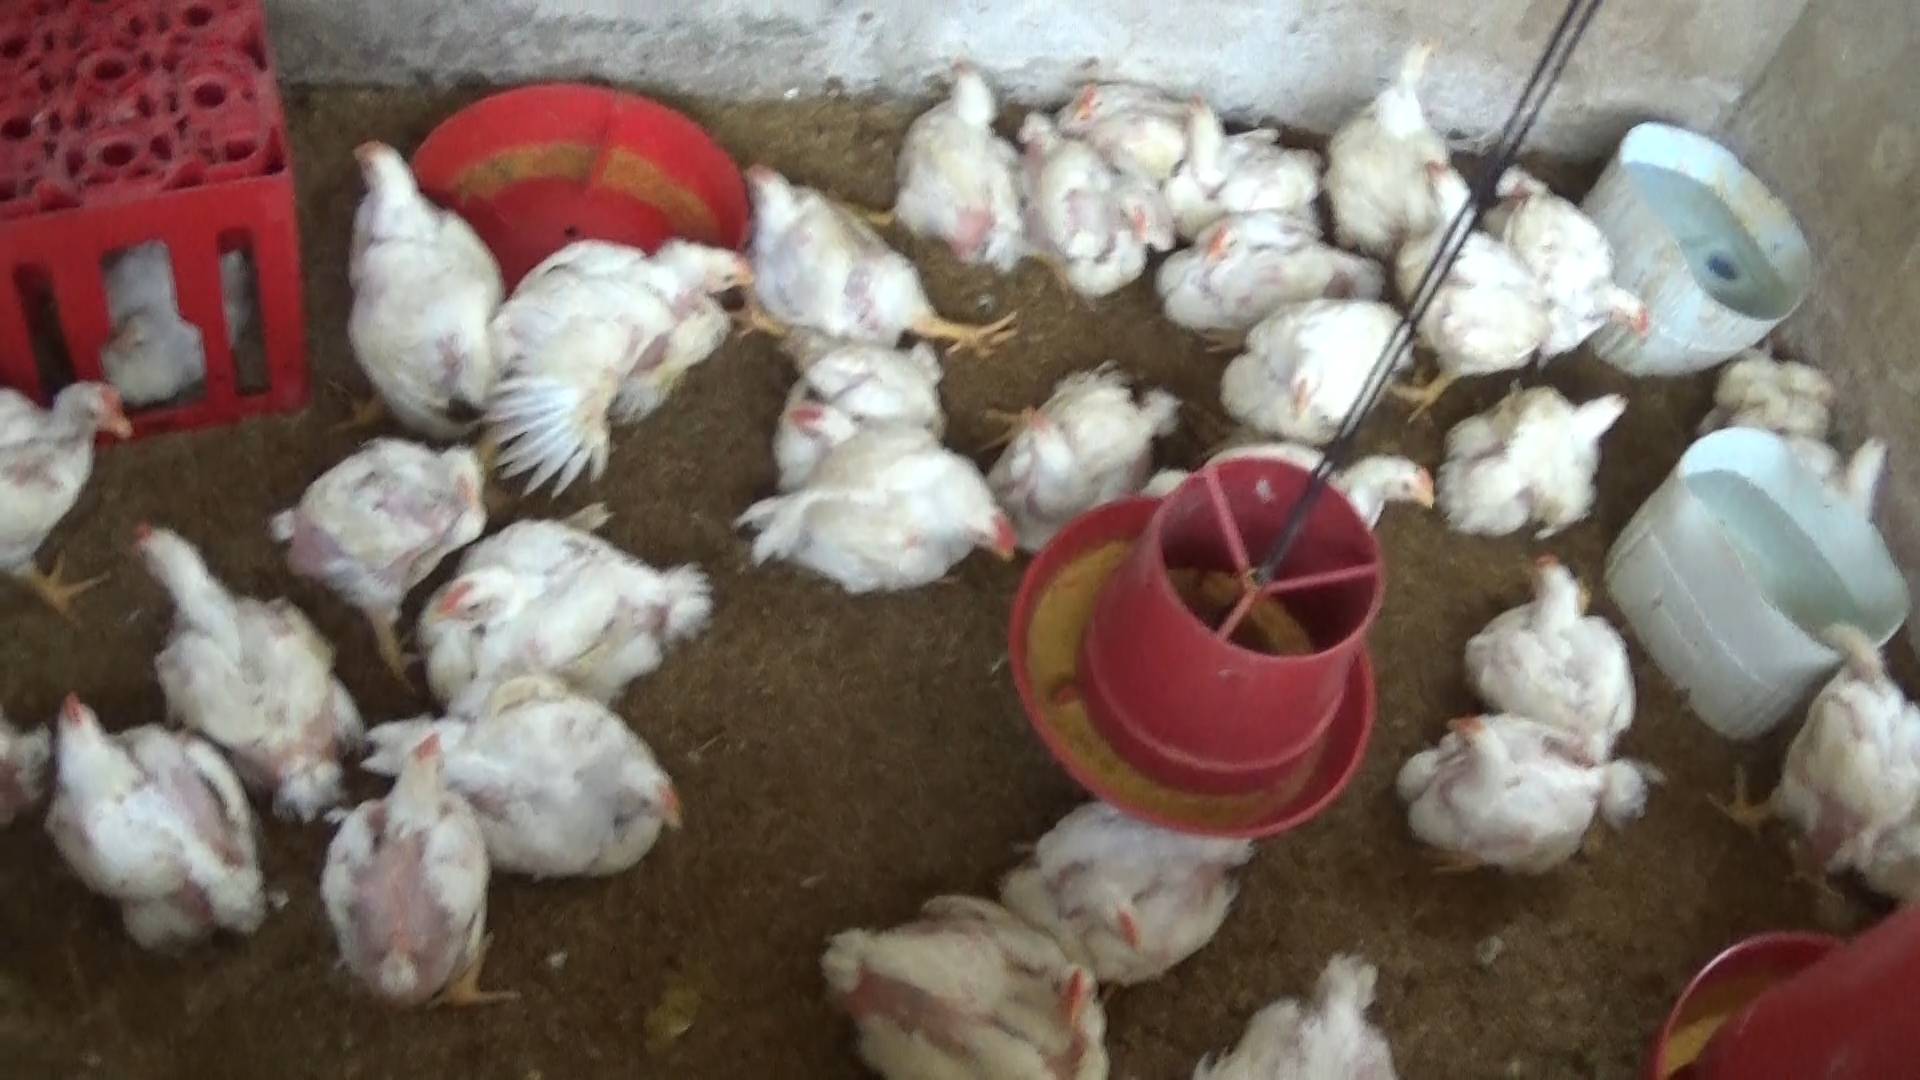Pollos: (117, 513, 360, 814), (37, 688, 262, 948), (485, 233, 761, 427), (827, 899, 1105, 1080), (442, 678, 686, 876), (336, 128, 498, 415), (326, 731, 491, 1004), (422, 526, 675, 703), (1013, 791, 1240, 986), (741, 440, 1015, 597), (1395, 708, 1613, 882), (976, 349, 1174, 541), (272, 429, 491, 599), (738, 153, 926, 345), (0, 368, 138, 615), (1791, 601, 1920, 864), (1456, 549, 1640, 732), (1493, 166, 1660, 361), (1402, 157, 1545, 377), (764, 332, 960, 487), (887, 57, 1023, 276), (1215, 302, 1414, 444), (1006, 117, 1153, 301), (1451, 392, 1642, 531), (1730, 348, 1900, 504), (1331, 44, 1462, 241), (1178, 204, 1385, 330), (1160, 88, 1323, 222), (1276, 425, 1443, 533), (1044, 74, 1195, 182)
